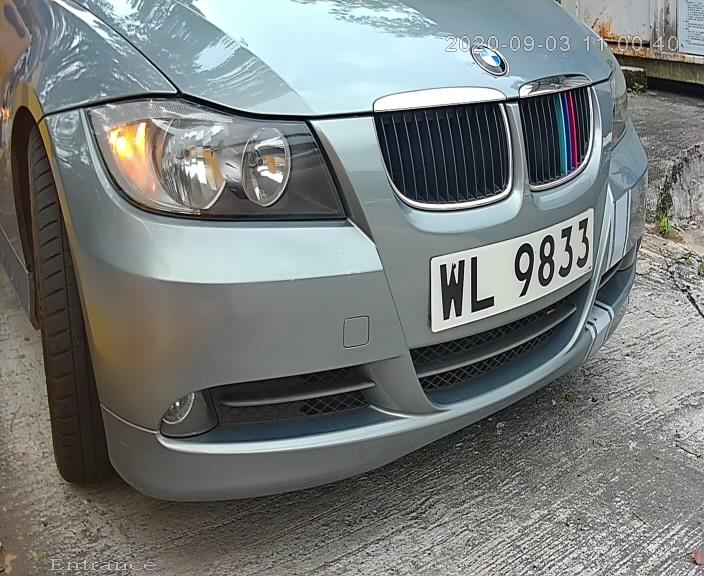Car: (7, 1, 670, 507)
License Plate: (425, 206, 595, 343)
